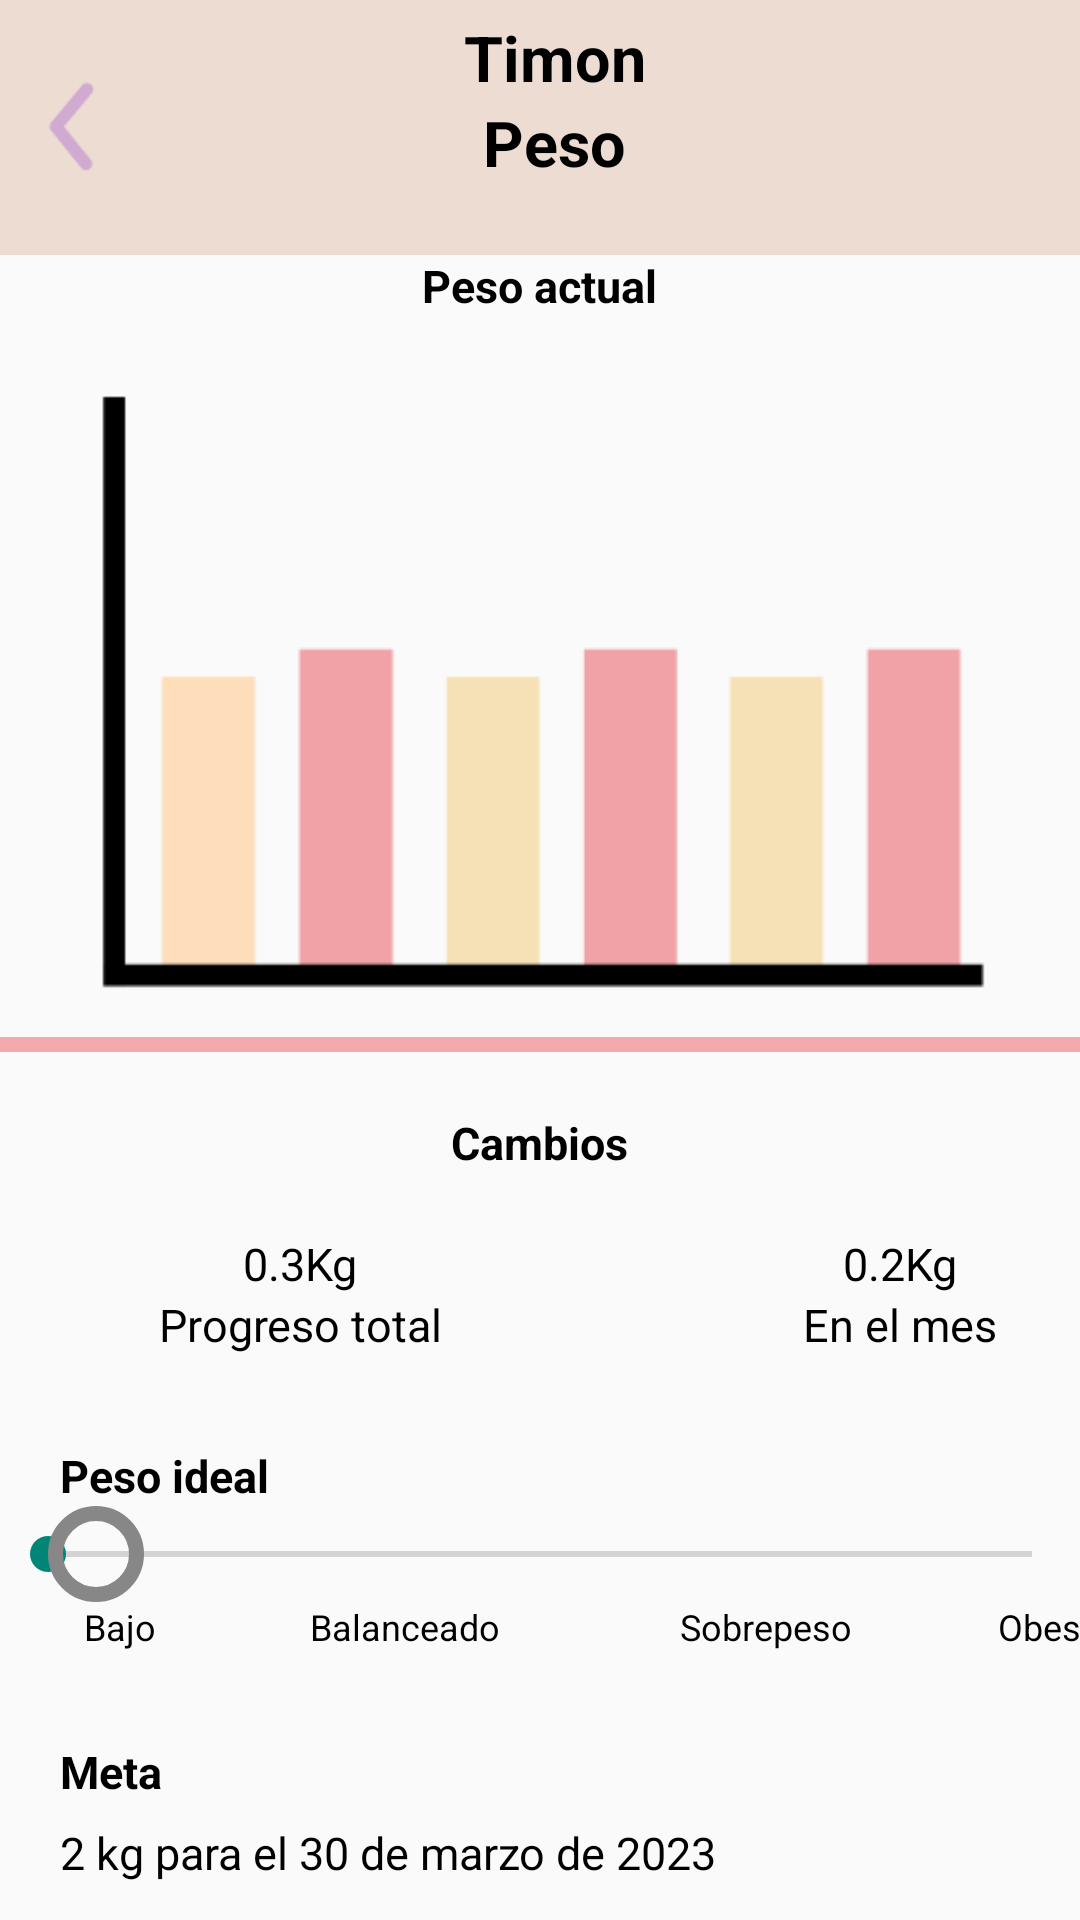

Point at icon controls on the screen. Image size 1080px x 1920px, points as (x=x, y=y).
back: (x=71, y=126)
